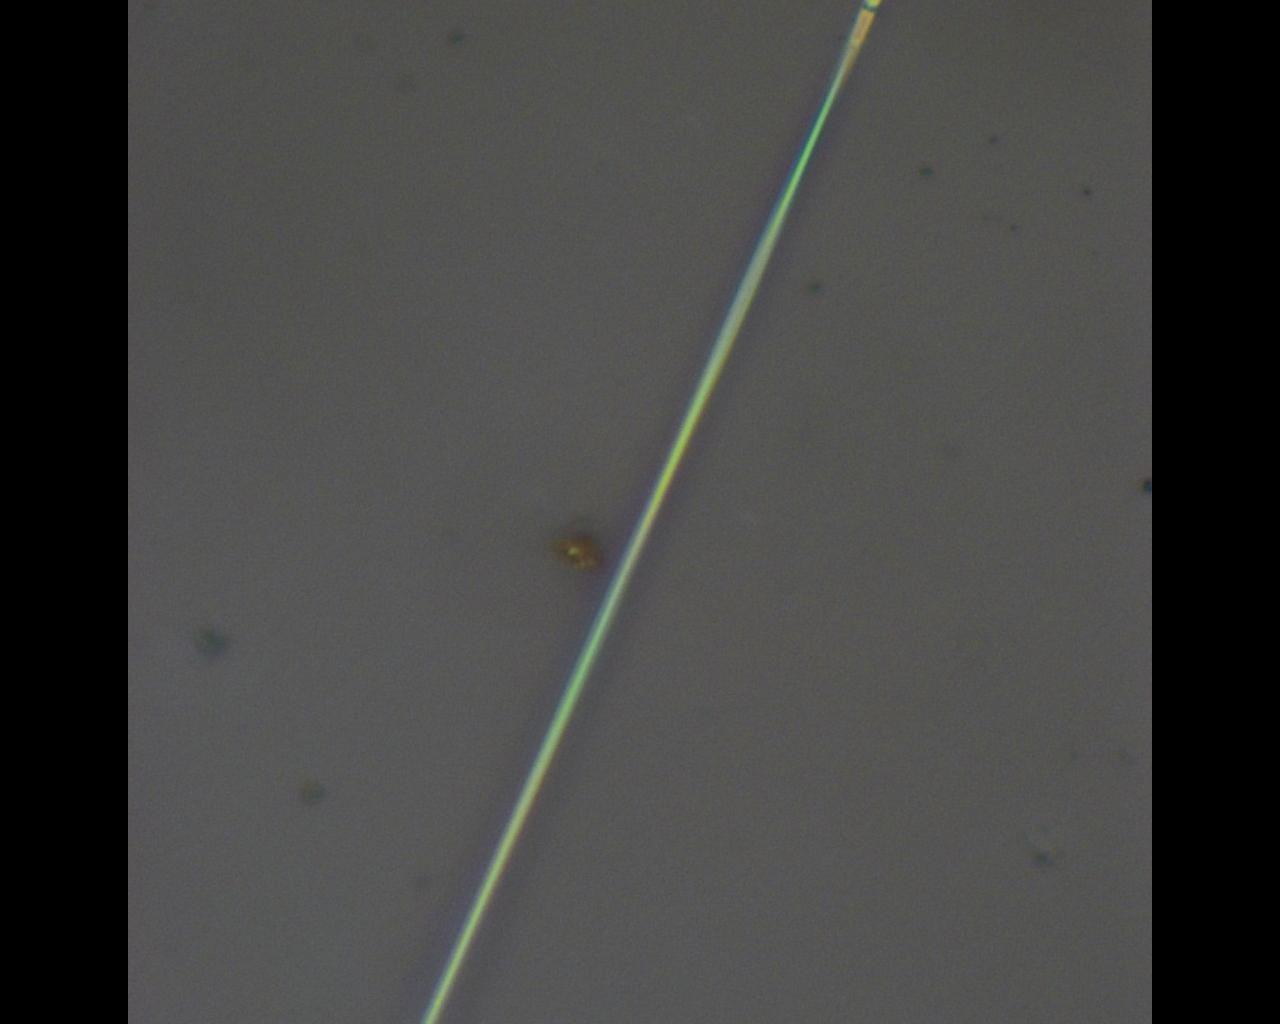fiber: (420, 0, 886, 1024)
